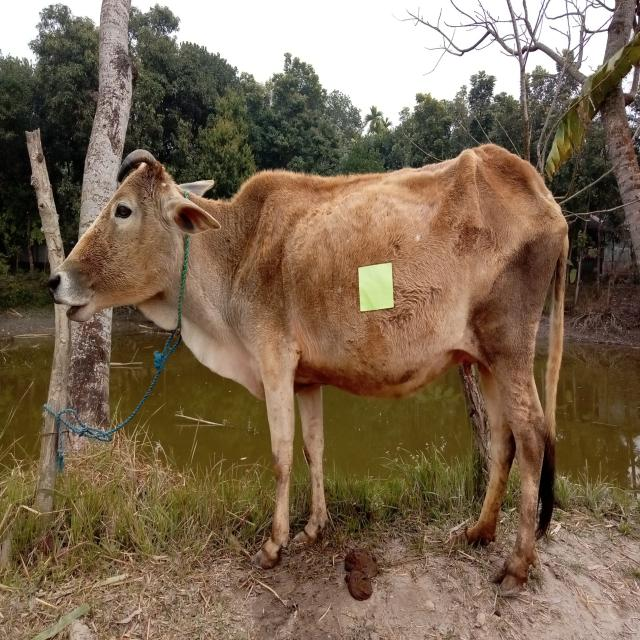badan_sapi: (261, 169, 535, 393)
sapi: (41, 144, 576, 597)
